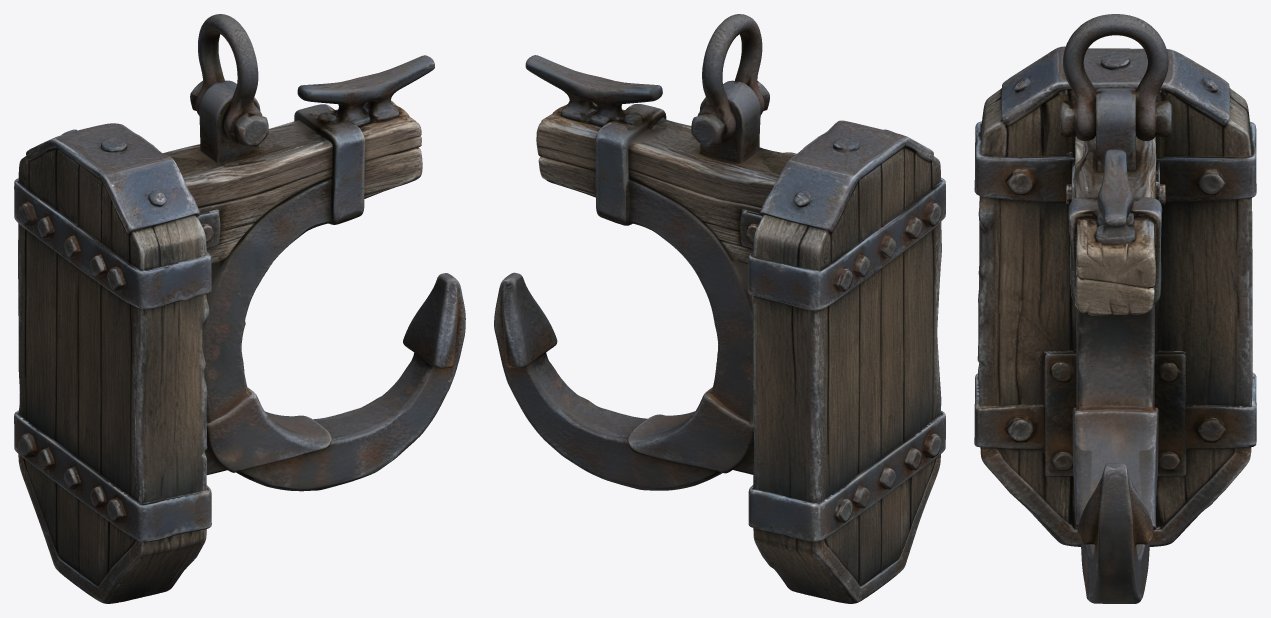
The model's file is Anchor_Holder_Mobile_2048.glb.
The picture shows the model from 3 angles, left to right: view 1: azimuth 30°, elevation 25°; view 2: azimuth 150°, elevation 25°; view 3: azimuth 270°, elevation 25°; orthographic projection. The views are drawn at different scales.
Parts seen in each view (by area): view 1: node_0; view 2: node_0; view 3: node_0.
Boxes of the visible parts, x1,y1,x2,y2 form: node_0: (14, 14, 465, 603); node_0: (494, 14, 945, 603); node_0: (974, 14, 1256, 603).
Bounding box in the file's own units: 0.7486 × 0.9823 × 0.4355.
1 material, 1 textured.
